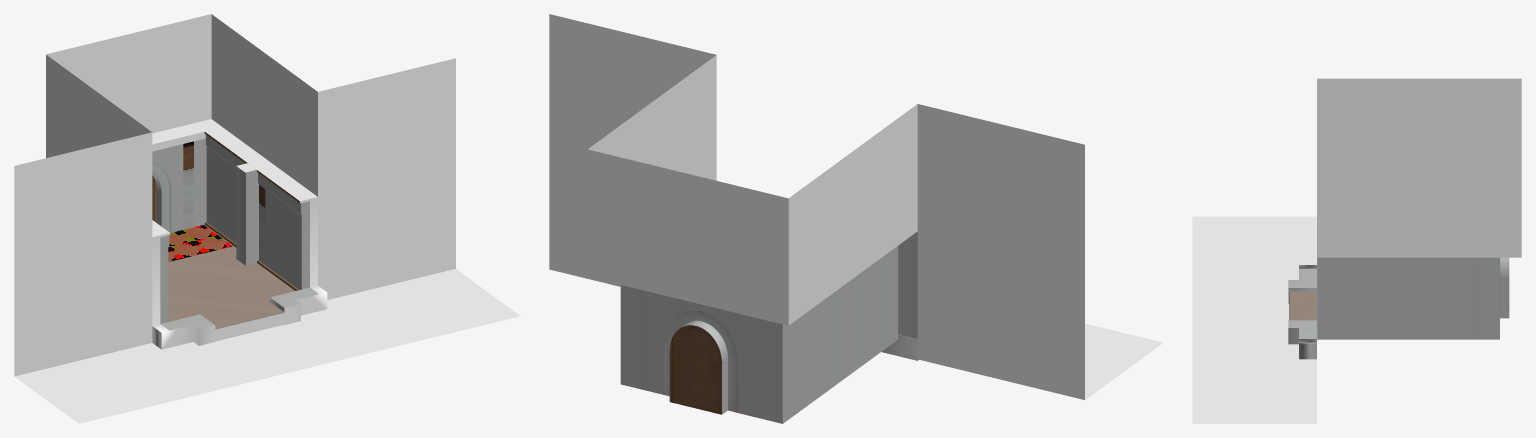
The model's file is a_com_house_a03.gltf.
The picture shows the model from 3 angles, left to right: view 1: azimuth 30°, elevation 25°; view 2: azimuth 150°, elevation 25°; view 3: azimuth 270°, elevation 25°; orthographic projection. The views are drawn at different scales.
Visible parts, largest first — view 1: outside_black_mesh_shape:a_com_house_a03_outside_black01, um_a_com_house_a03_model_a_com_house_a03_modelShape:a_com_ho (×8), nomerge_outside_edge_shape:mat_texture_edge01; view 2: outside_black_mesh_shape:a_com_house_a03_outside_black01, um_a_com_house_a03_model_a_com_house_a03_modelShape:a_com_ho (×4); view 3: outside_black_mesh_shape:a_com_house_a03_outside_black01, um_a_com_house_a03_model_a_com_house_a03_modelShape:a_com_ho (×4), nomerge_outside_edge_shape:mat_texture_edge01.
Part boxes in pixels (x1,y1,x2,y2): outside_black_mesh_shape:a_com_house_a03_outside_black01: (14,14,520,423); um_a_com_house_a03_model_a_com_house_a03_modelShape:a_com_ho (×8): (152,132,318,349); nomerge_outside_edge_shape:mat_texture_edge01: (152,131,327,349); outside_black_mesh_shape:a_com_house_a03_outside_black01: (549,14,1163,399); um_a_com_house_a03_model_a_com_house_a03_modelShape:a_com_ho (×4): (620,231,918,423); outside_black_mesh_shape:a_com_house_a03_outside_black01: (1192,78,1521,423); um_a_com_house_a03_model_a_com_house_a03_modelShape:a_com_ho (×4): (1288,257,1509,359); nomerge_outside_edge_shape:mat_texture_edge01: (1288,265,1316,344).
Size of the model in its own units: 14 by 6.42 by 9.4.
11 materials, 9 textured.
